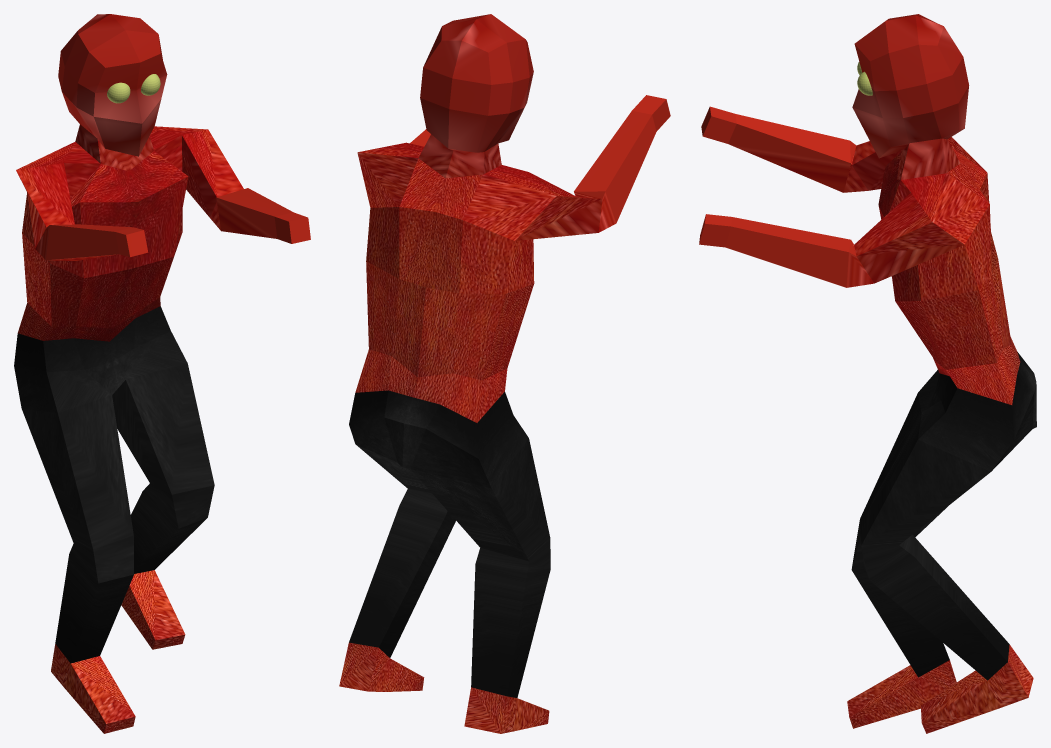
The model's file is laySheary_000009.obj.
3 renders of one model, left to right at view 1: azimuth 30°, elevation 25°; view 2: azimuth 150°, elevation 25°; view 3: azimuth 270°, elevation 25°, orthographic. The views are drawn at different scales.
Visible parts, largest first — view 1: Cube; view 2: Cube; view 3: Cube.
Boxes of the visible parts, bbox=[...] form: Cube: bbox=[14, 14, 310, 733]; Cube: bbox=[339, 14, 670, 733]; Cube: bbox=[699, 14, 1036, 733].
Size of the model in its own units: 5.06 by 15.99 by 6.82.
Materials: 3 (2 with a texture image).
